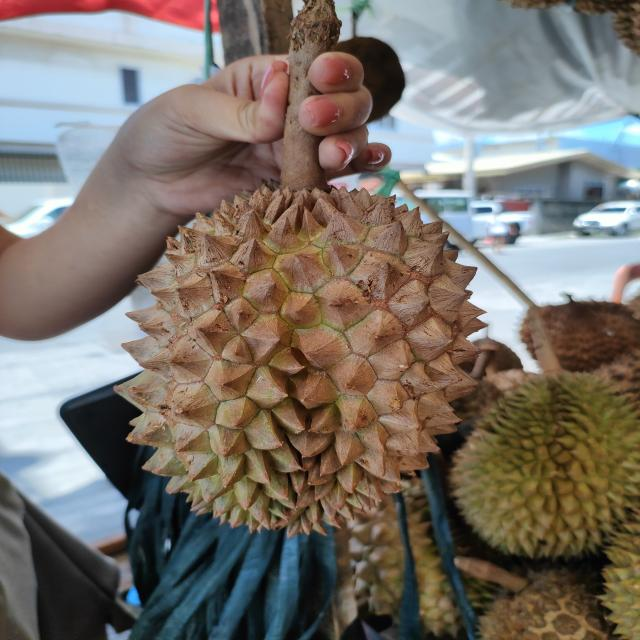mature: (120, 176, 486, 534)
